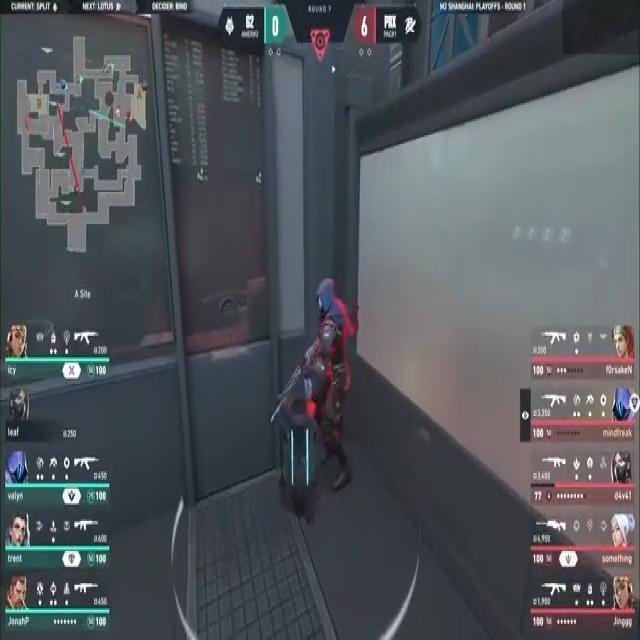spike-planted: (275, 400, 319, 512)
